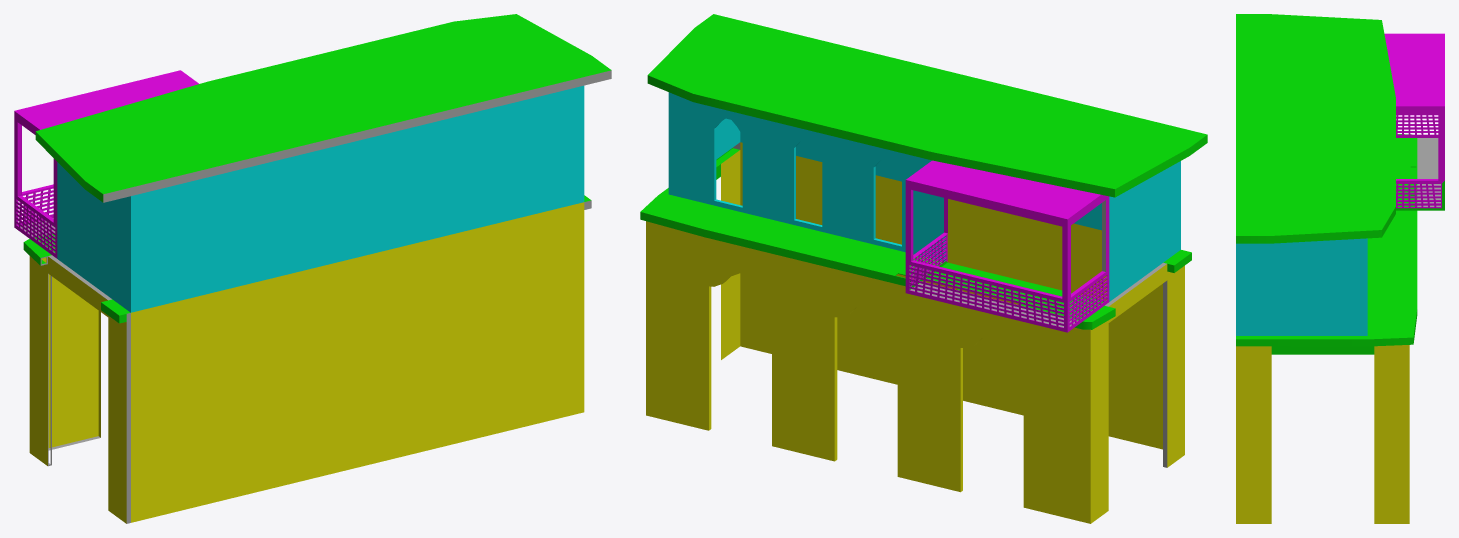
File: Building4.fbx
3 renders of one model, left to right at view 1: azimuth 30°, elevation 25°; view 2: azimuth 150°, elevation 25°; view 3: azimuth 270°, elevation 25°, orthographic. The views are drawn at different scales.
Visible parts, largest first — view 1: pCube4; view 2: pCube4; view 3: pCube4.
Part boxes in pixels (bbox=[...]): pCube4: bbox=[14, 14, 611, 523]; pCube4: bbox=[640, 14, 1207, 523]; pCube4: bbox=[1236, 14, 1444, 523].
Bounding box in the file's own units: 3817 × 2405 × 1516.
